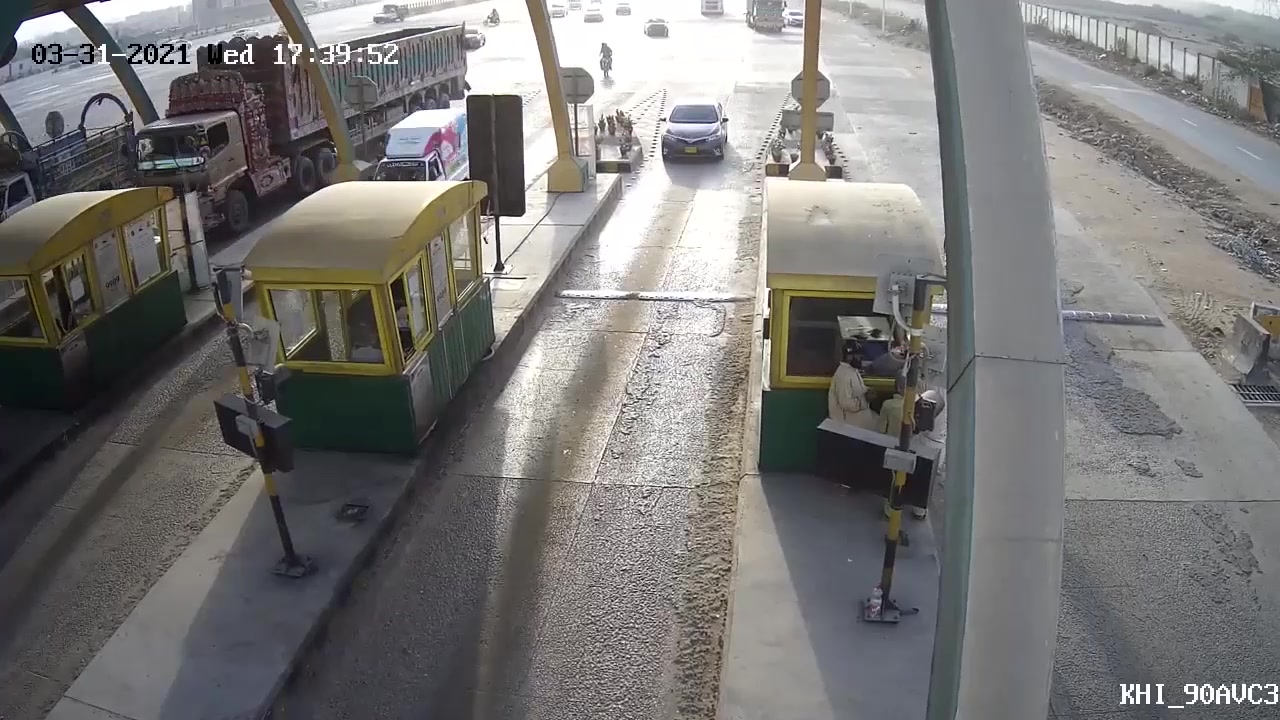F1: (652, 98, 739, 173)
